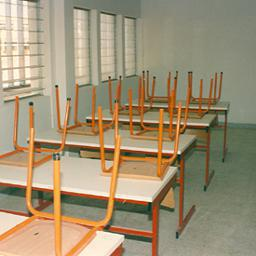Ventana: (1, 0, 55, 98), (72, 8, 93, 84), (98, 9, 119, 81), (121, 15, 142, 81)
